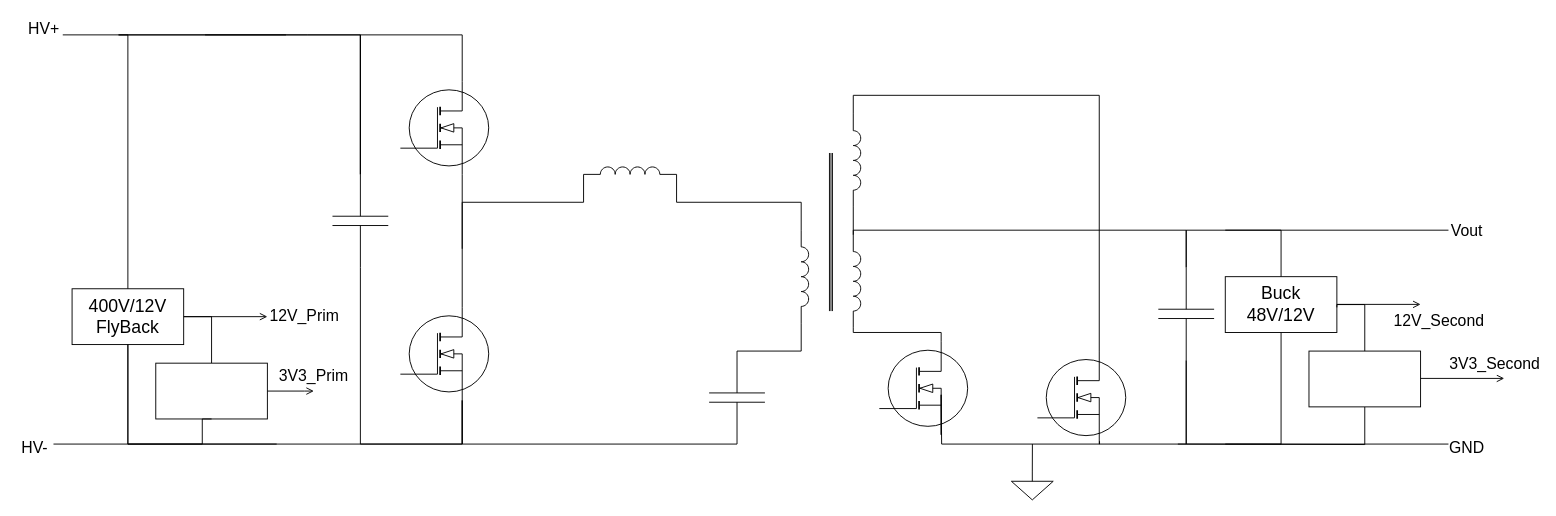
Some shapes in this 1556 by 516 pixel diagram are drawn without their labels. Here are the shapes that lost their labels. From the top down, the box of each, then its label:
(155, 362, 267, 419): Buck 12V/3.3V
(1308, 350, 1421, 407): LDO 12V/3.3V
